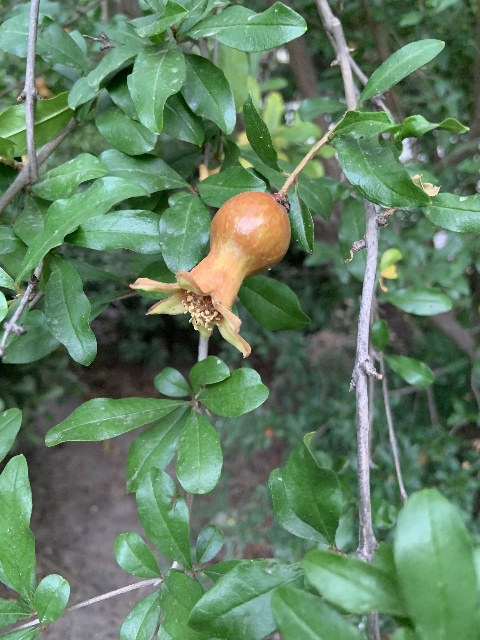early-fruit: (127, 191, 290, 360)
